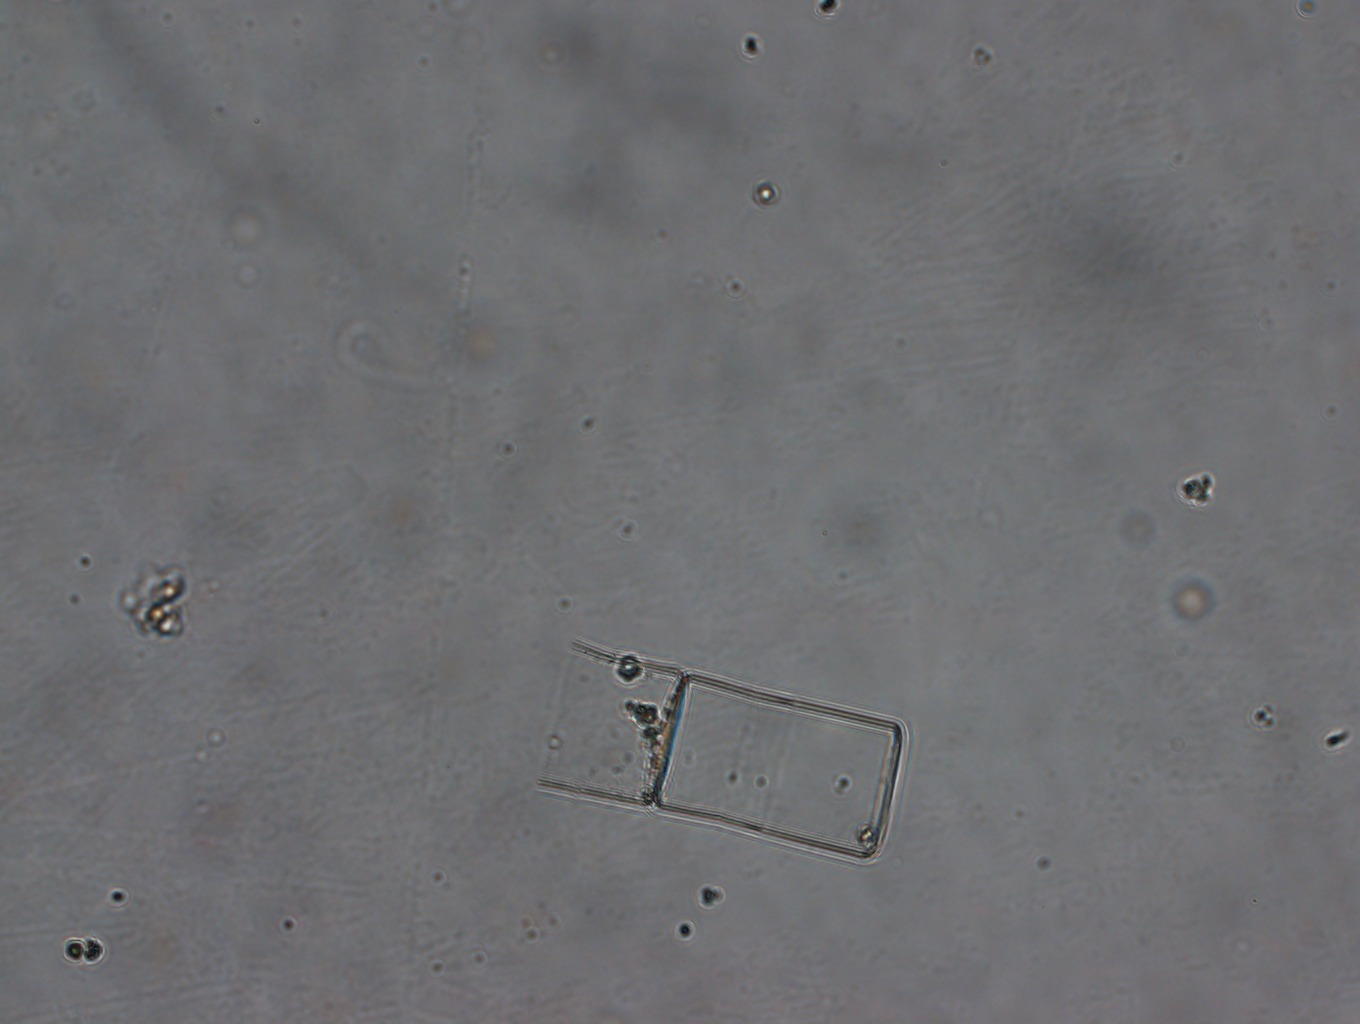guinardia flaccida: (536, 642, 905, 862)
